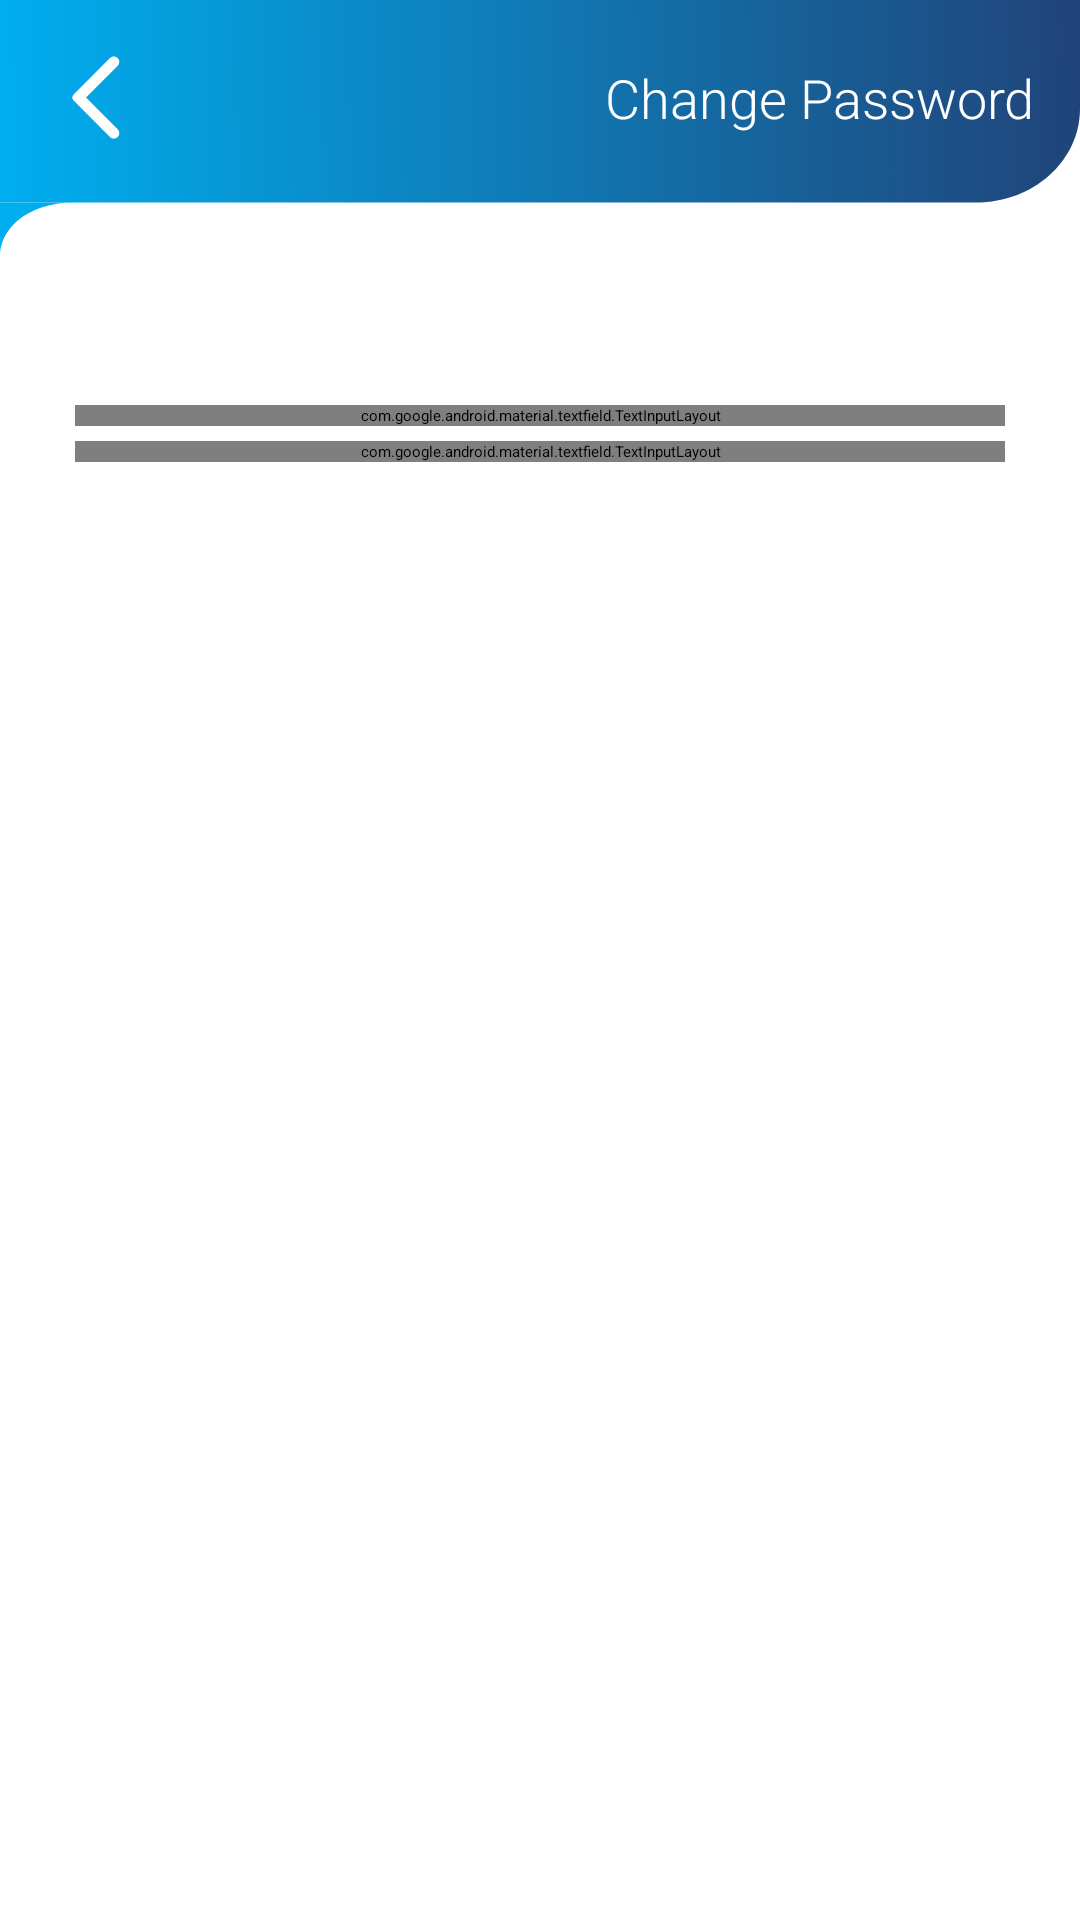

Screen size 1080px x 1920px. Icon name, then its box in pixels as (x1, y1, x2, y2):
arrow back: (72, 56, 120, 139)
